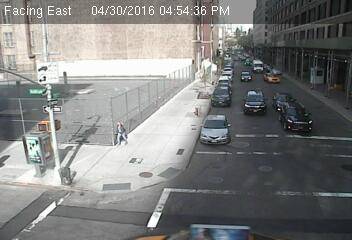neg: (43, 159, 66, 190), (30, 119, 50, 145)
pos: (109, 119, 129, 145)
